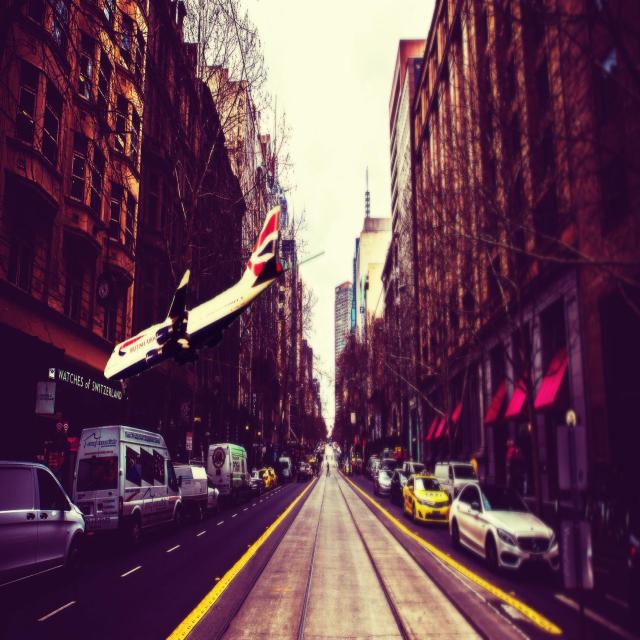airplane: (101, 204, 285, 382)
